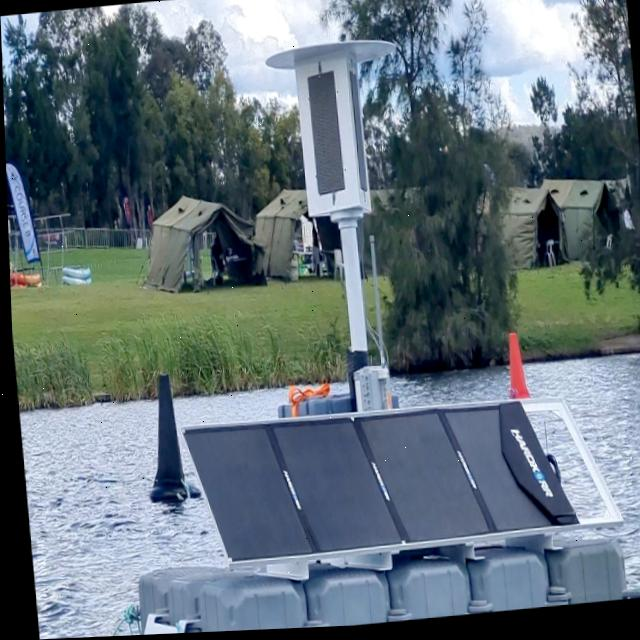led: (298, 63, 353, 209)
